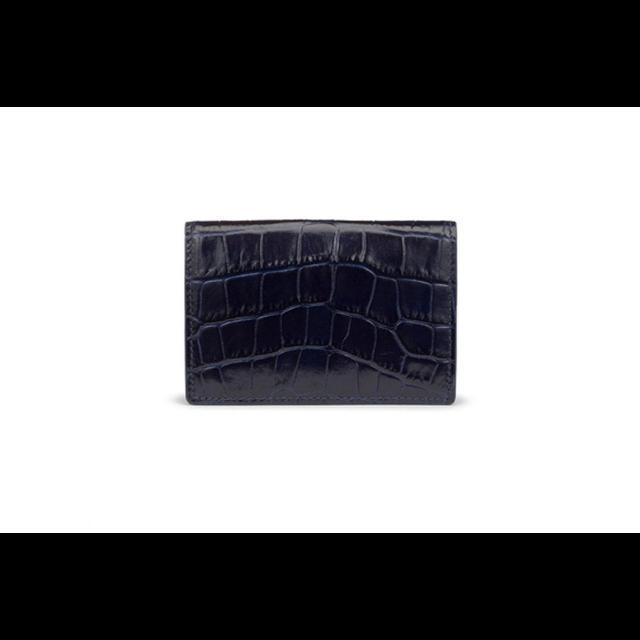Wallet: (183, 220, 455, 404)
